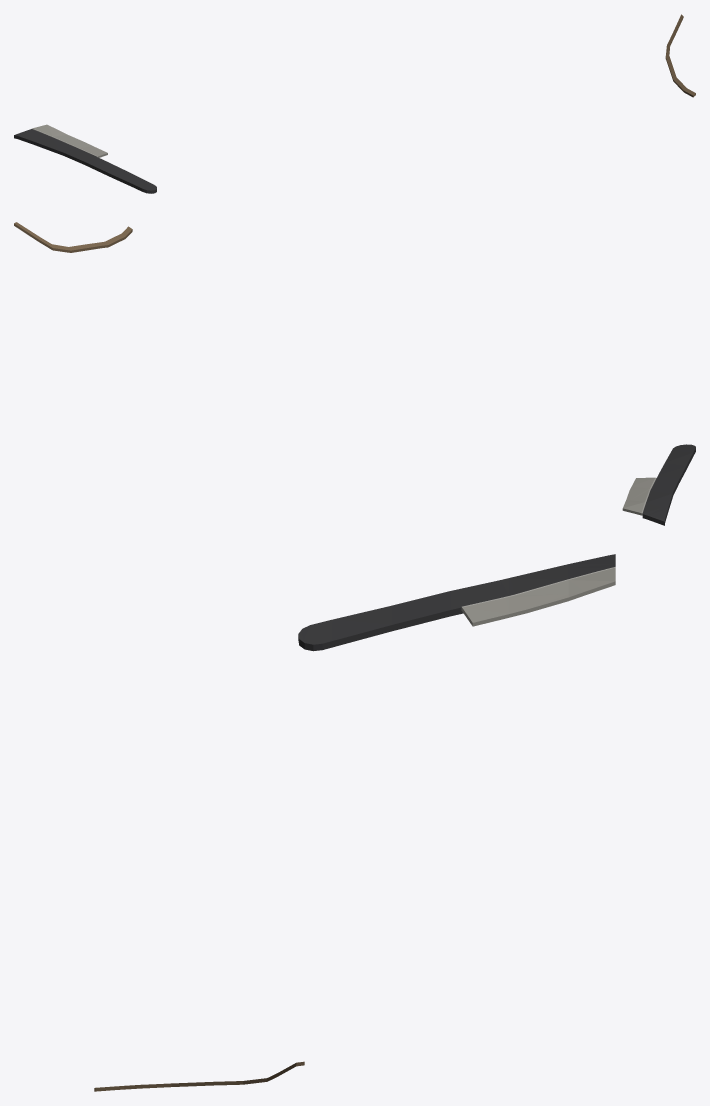
3 views of the same model, one above another, from view 1: azimuth 30°, elevation 25°; view 2: azimuth 150°, elevation 25°; view 3: azimuth 270°, elevation 25° (orthographic). The views are drawn at different scales.
Bounding box in the file's own units: 230 × 18.58 × 88.2.
